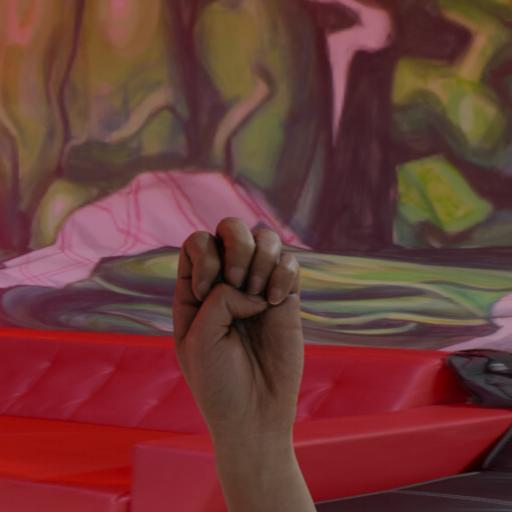E: (160, 213, 330, 512)
